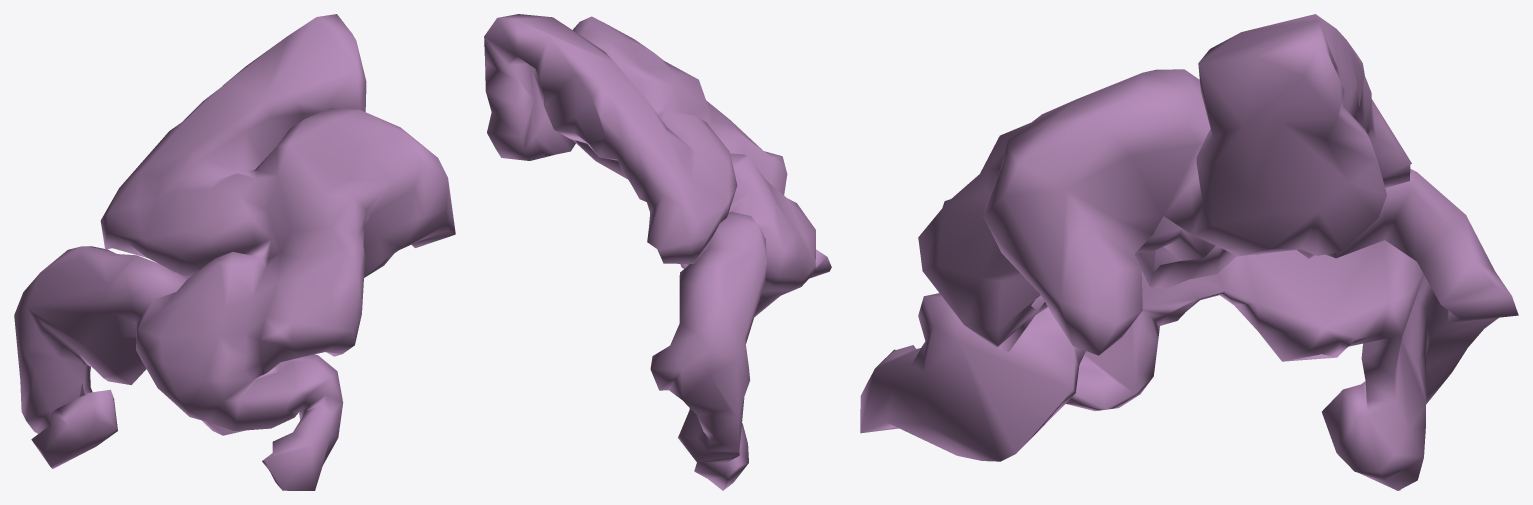
The picture shows the model from 3 angles, left to right: view 1: azimuth 30°, elevation 25°; view 2: azimuth 150°, elevation 25°; view 3: azimuth 270°, elevation 25°; orthographic projection. The views are drawn at different scales.
Visible parts, largest first — view 1: 右侧角回; view 2: 右侧角回; view 3: 右侧角回.
Part boxes in pixels (x1,y1,x2,y2): 右侧角回: (14, 14, 455, 490); 右侧角回: (484, 14, 831, 490); 右侧角回: (860, 14, 1518, 490).
Size of the model in its own units: 0.0636 by 0.0764 by 0.0697.
